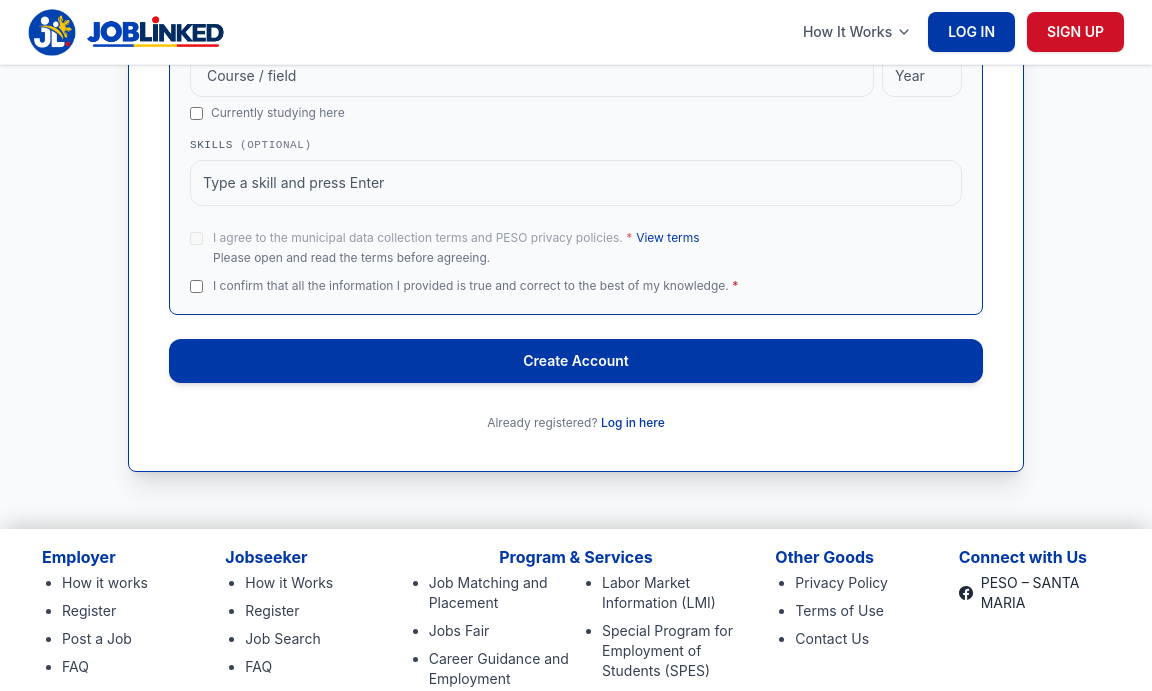
Test case: scroll to first error › highlights every empty required field via the error selector
The width and height of the screenshot is (1152, 691).
(page scrolled)
Click the button "Create Account".
click(576, 361)  # box [169, 339, 983, 383]
(page scrolled)
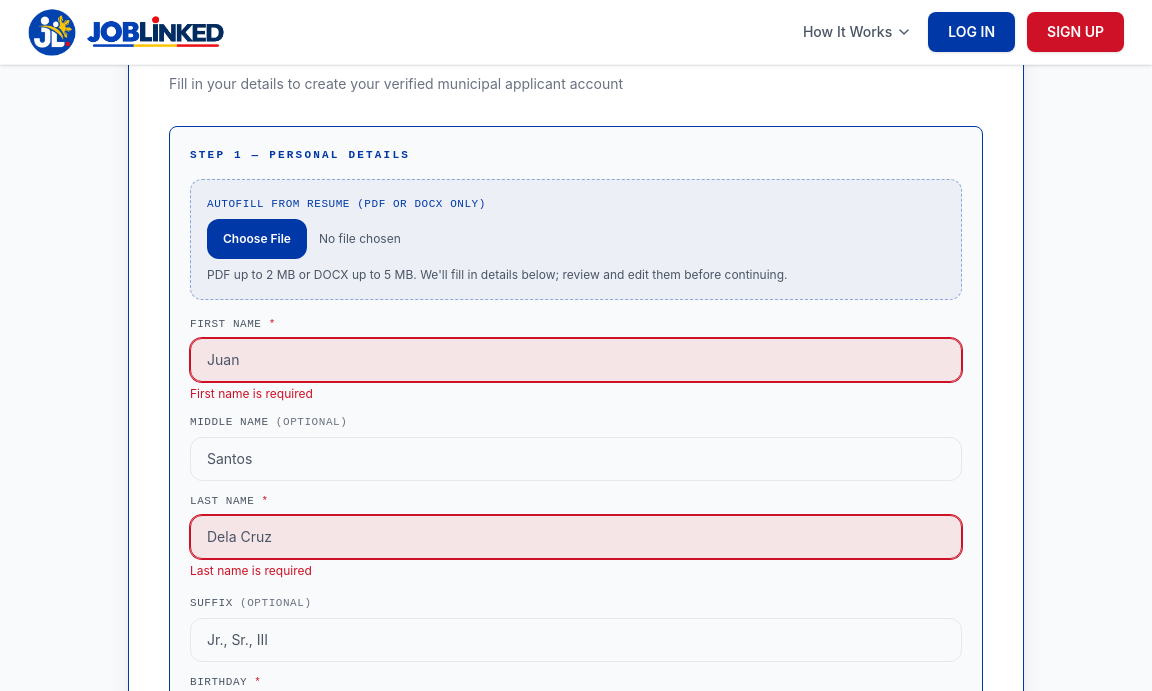
Now the text "First name is required" is shown, box [190, 386, 313, 401]
